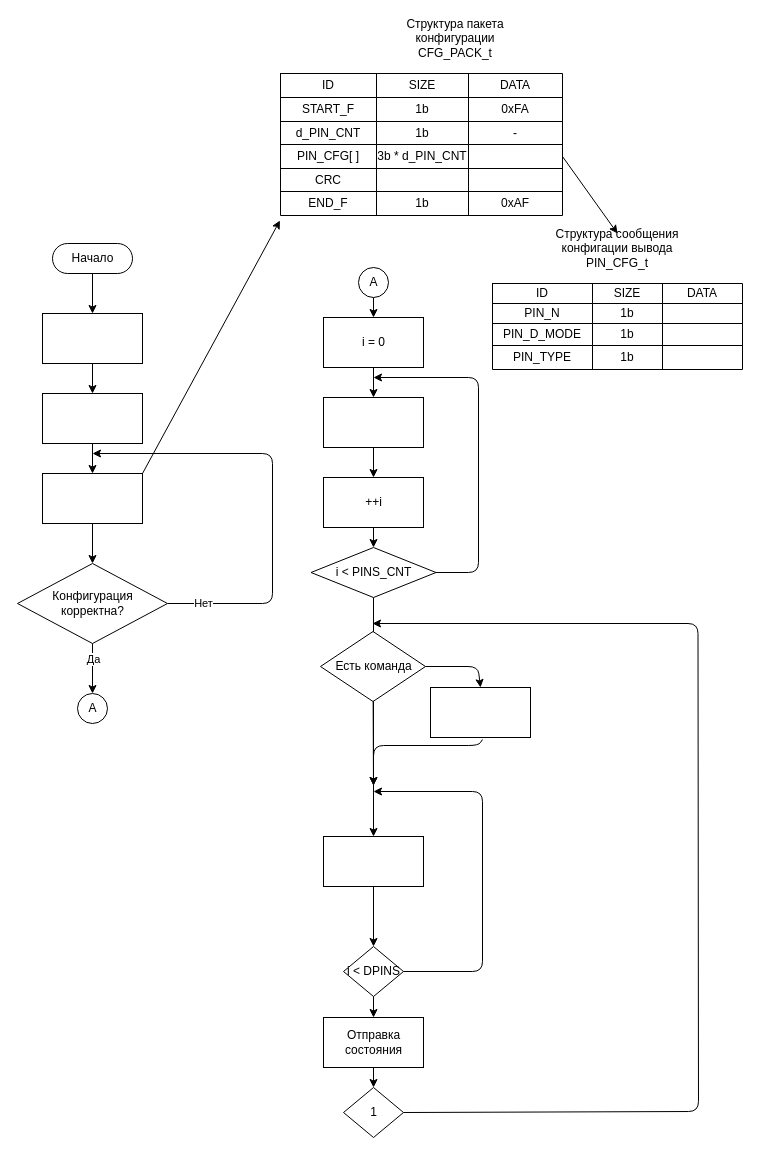
This 760x1155 diagram has some shape labels left out. The shapes that lost their labels are listed below. From the top down, each one's centre as x and y in pixels, then its label:
pixel 92 338: Инициализация переферии и интерфейсов
pixel 92 418: Чтение адреса (не реализовано)
pixel 373 422: Конфигурация пина i
pixel 92 498: Прием конфигурации
pixel 480 712: Реализация
pixel 373 861: Реализация функций i пина
